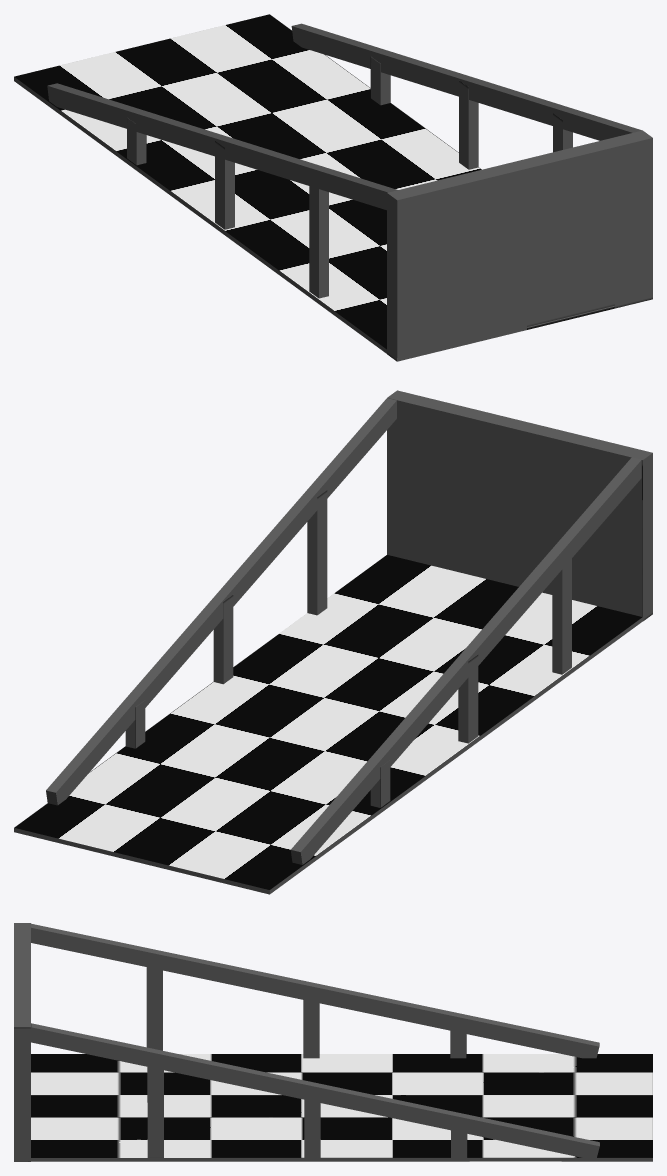
The model's file is Goal.obj.
3 views of the same model, one above another, from view 1: azimuth 30°, elevation 25°; view 2: azimuth 150°, elevation 25°; view 3: azimuth 270°, elevation 25° (orthographic). The views are drawn at different scales.
Parts seen in each view (by area): view 1: 立方体.009; view 2: 立方体.009; view 3: 立方体.009.
Part boxes in pixels (x1,y1,x2,y2): 立方体.009: (14, 14, 652, 361); 立方体.009: (14, 390, 652, 894); 立方体.009: (14, 923, 652, 1161).
Bounding box in the file's own units: 30.11 × 18.17 × 78.13.
